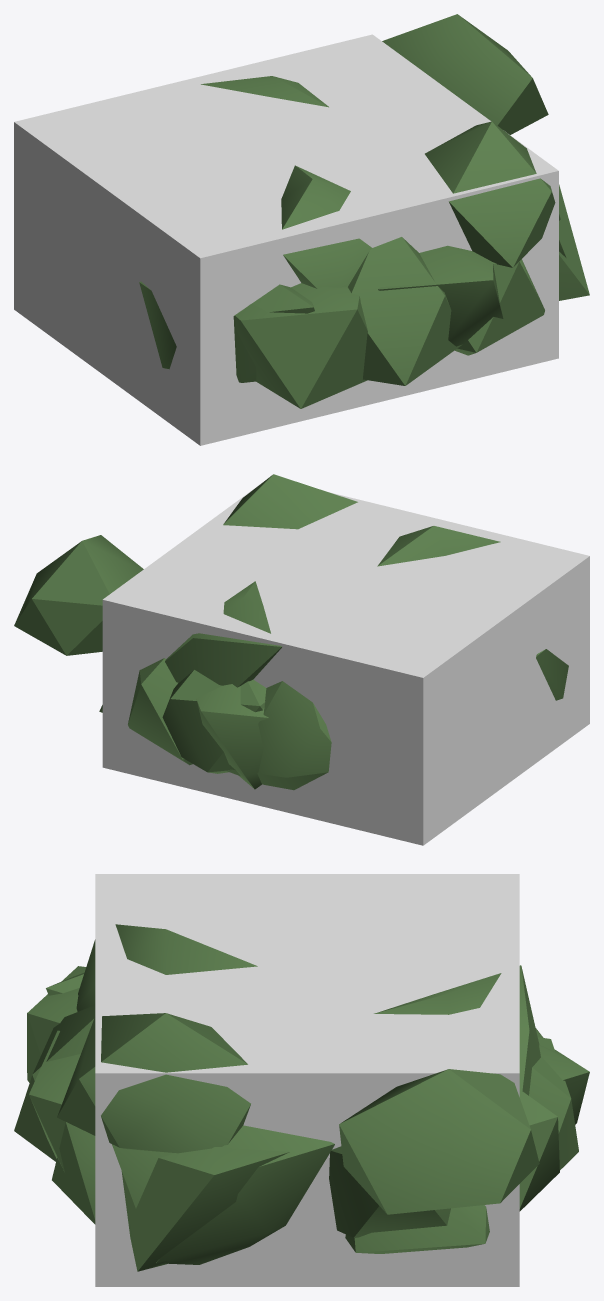
Rendered from hole_bush.glb.
3 renders of one model, top to bottom at view 1: azimuth 30°, elevation 25°; view 2: azimuth 150°, elevation 25°; view 3: azimuth 270°, elevation 25°, orthographic. The views are drawn at different scales.
Visible parts, largest first — view 1: hole_bush-convcol, bush_mesh; view 2: hole_bush-convcol, bush_mesh; view 3: hole_bush-convcol, bush_mesh.
Part boxes in pixels (x1,y1,x2,y2): hole_bush-convcol: [14, 34, 558, 445]; bush_mesh: [139, 14, 589, 408]; hole_bush-convcol: [102, 484, 589, 845]; bush_mesh: [14, 474, 568, 790]; hole_bush-convcol: [95, 874, 519, 1286]; bush_mesh: [14, 924, 589, 1271].
Size of the model in its own units: 2.68 by 1.21 by 2.44.
